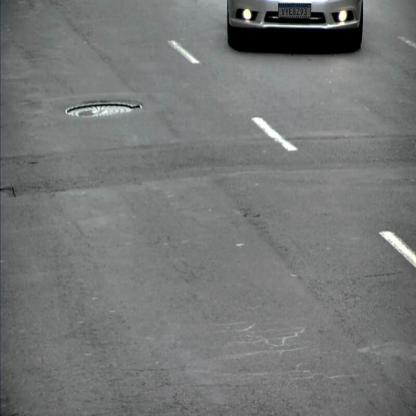PlacaM: (278, 4, 311, 18)
